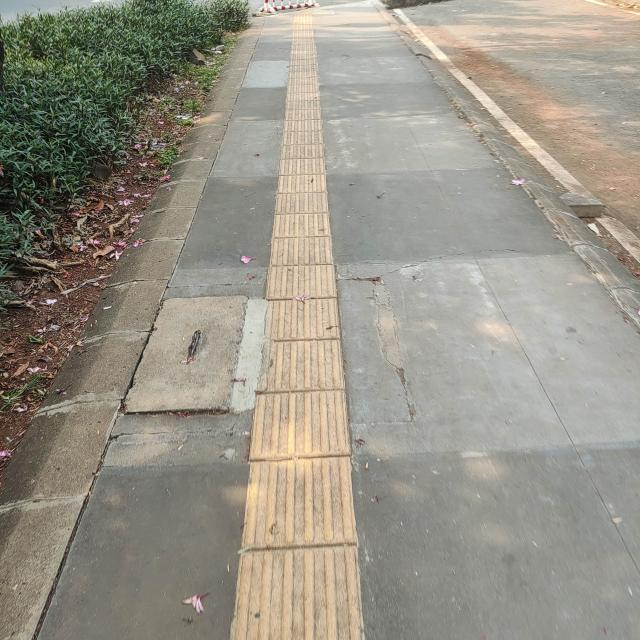lurus: (248, 30, 363, 640)
